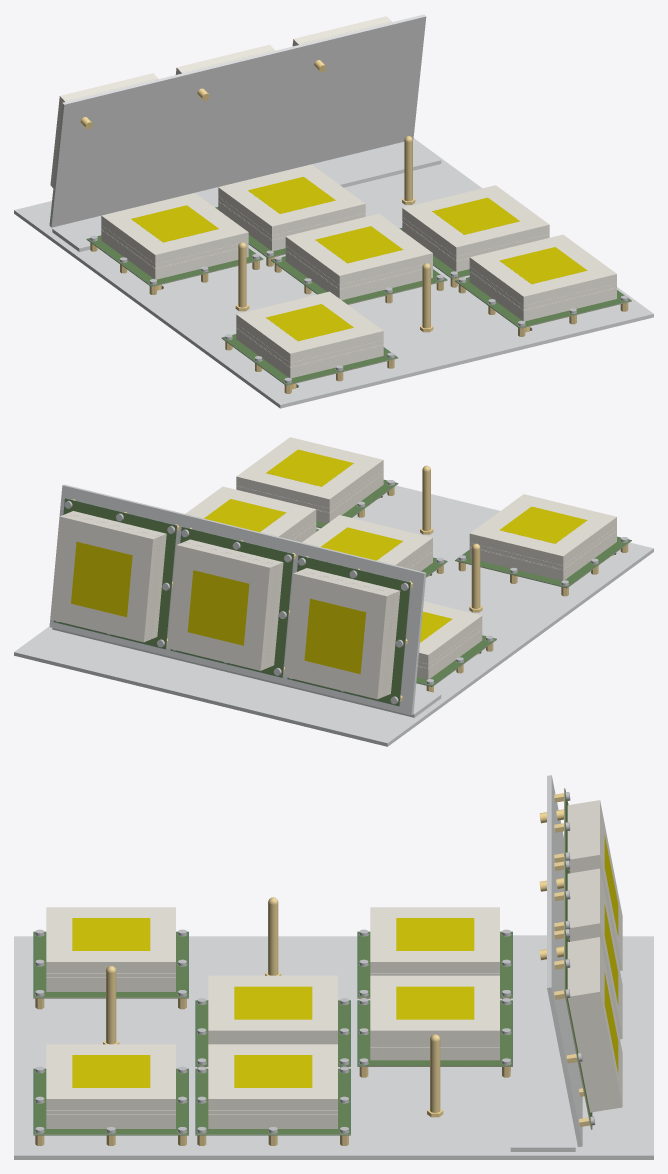
File: crpa_array_revB.glb
3 views of the same model, one above another, from view 1: azimuth 30°, elevation 25°; view 2: azimuth 150°, elevation 25°; view 3: azimuth 270°, elevation 25° (orthographic). The views are drawn at different scales.
Visible parts, largest first — view 1: bracket_face, =>[0:1:1:2].016, =>[0:1:1:3].037, =>[0:1:1:3].048, =>[0:1:1:3].053, =>[0:1:1:3].059, =>[0:1:1:3].032, =>[0:1:1:3].043, bracket_flange, =>[0:1:1:2].044, =>[0:1:1:2].024, =>[0:1:1:2].032 (+26 smaller); view 2: =>[0:1:1:2].016, bracket_face, =>[0:1:1:3].071, =>[0:1:1:3].077, =>[0:1:1:3].065, =>[0:1:1:3].059, =>[0:1:1:3].053, =>[0:1:1:2].052, =>[0:1:1:2].056, =>[0:1:1:2].048, =>[0:1:1:11].013, =>[0:1:1:11].011 (+30 smaller); view 3: =>[0:1:1:2].016, bracket_flange, =>[0:1:1:3].043, =>[0:1:1:3].037, =>[0:1:1:3].032, =>[0:1:1:3].048, =>[0:1:1:3].059, =>[0:1:1:3].053, bracket_face, =>[0:1:1:3].077, =>[0:1:1:2].028, =>[0:1:1:2].032 (+33 smaller).
Boxes of the visible parts, x1,y1,x2,y2 form: bracket_face: (49, 14, 426, 227); =>[0:1:1:2].016: (14, 138, 653, 408); =>[0:1:1:3].037: (218, 164, 365, 235); =>[0:1:1:3].048: (402, 185, 549, 256); =>[0:1:1:3].053: (236, 291, 383, 362); =>[0:1:1:3].059: (469, 234, 616, 305); =>[0:1:1:3].032: (101, 193, 248, 264); =>[0:1:1:3].043: (285, 213, 432, 284); bracket_flange: (52, 140, 441, 251); =>[0:1:1:2].044: (499, 247, 587, 284); =>[0:1:1:2].024: (131, 205, 218, 242); =>[0:1:1:2].032: (315, 226, 403, 263); =>[0:1:1:2].016: (14, 485, 653, 746); bracket_face: (49, 484, 426, 715); =>[0:1:1:3].071: (167, 543, 274, 670); =>[0:1:1:3].077: (50, 514, 157, 642); =>[0:1:1:3].065: (284, 571, 391, 699); =>[0:1:1:3].059: (236, 437, 383, 508); =>[0:1:1:3].053: (469, 494, 616, 565); =>[0:1:1:2].052: (187, 570, 249, 645); =>[0:1:1:2].056: (71, 542, 132, 617); =>[0:1:1:2].048: (304, 598, 366, 674); =>[0:1:1:11].013: (53, 498, 176, 649); =>[0:1:1:11].011: (287, 555, 410, 706); =>[0:1:1:2].016: (14, 936, 653, 1159); bracket_flange: (510, 935, 575, 1151); =>[0:1:1:3].043: (208, 975, 337, 1041); =>[0:1:1:3].037: (370, 975, 499, 1041); =>[0:1:1:3].032: (370, 907, 499, 972); =>[0:1:1:3].048: (208, 1044, 337, 1109); =>[0:1:1:3].059: (46, 1044, 175, 1109); =>[0:1:1:3].053: (46, 907, 175, 972); bracket_face: (547, 775, 582, 1146); =>[0:1:1:3].077: (588, 937, 622, 1109); =>[0:1:1:2].028: (396, 986, 474, 1019); =>[0:1:1:2].032: (234, 986, 312, 1019).
Size of the model in its own units: 0.32 by 0.1231 by 0.395.
